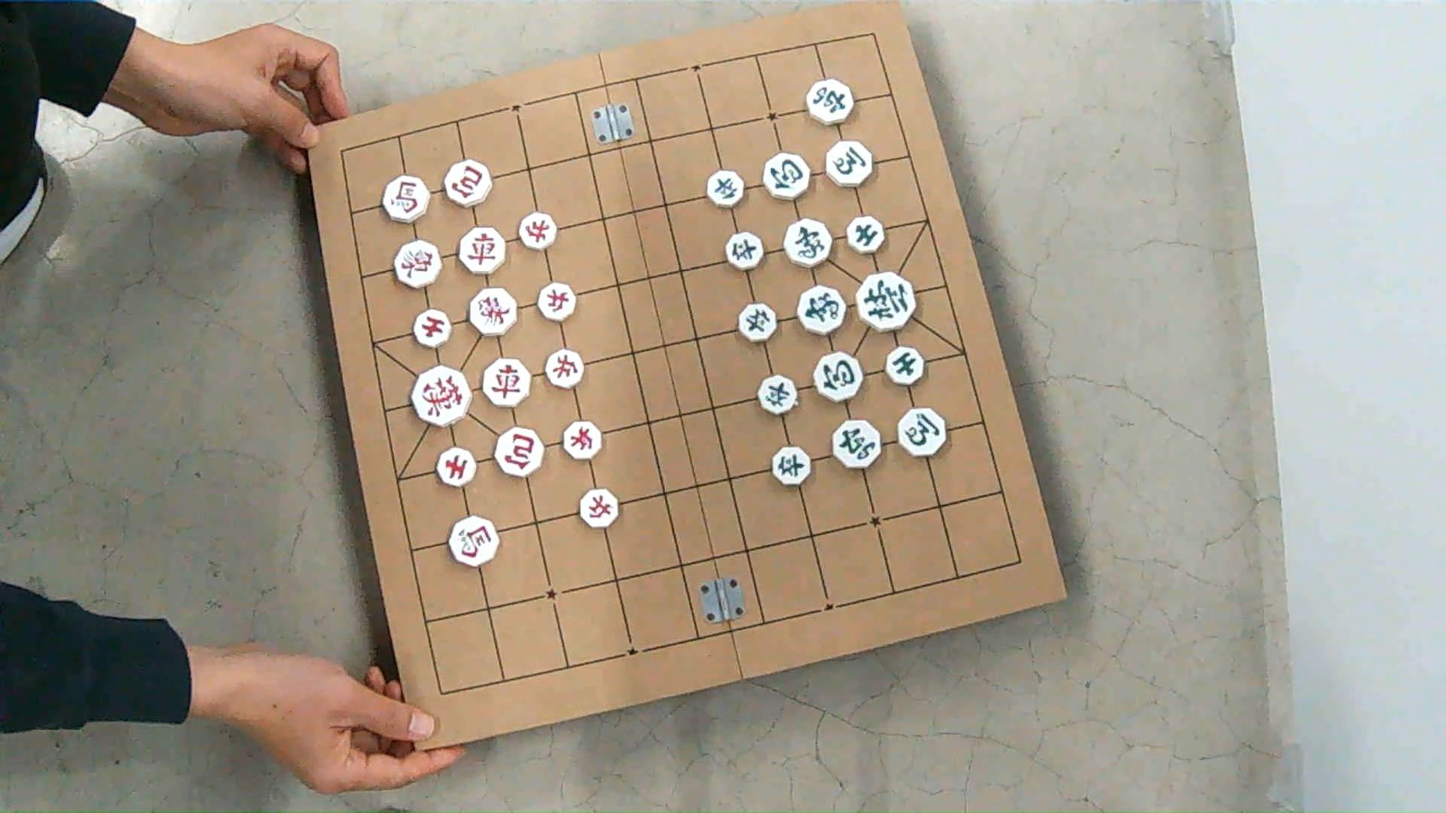cha_green: (833, 419, 881, 469), (807, 79, 853, 124)
cha_red: (483, 358, 530, 406), (459, 227, 505, 274)
jol_green: (758, 376, 797, 415), (772, 446, 810, 486), (738, 303, 776, 342), (725, 232, 763, 269), (706, 170, 743, 207)
jol_red: (579, 489, 618, 528), (545, 349, 584, 388), (563, 421, 601, 460), (538, 282, 575, 321), (519, 212, 557, 249)
ma_green: (898, 408, 946, 456), (826, 141, 872, 187)
ma_red: (450, 517, 499, 566), (383, 175, 429, 222)
po_green: (814, 352, 862, 401), (764, 153, 810, 199)
po_red: (496, 428, 544, 477), (445, 160, 492, 206)
sa_green: (886, 346, 923, 385), (847, 217, 884, 253)
sa_red: (413, 309, 451, 348), (438, 447, 475, 486)
sang_green: (798, 286, 846, 334), (785, 218, 831, 266)
sang_red: (393, 240, 441, 288), (469, 288, 517, 336)
wang_green: (857, 271, 916, 330)
wang_red: (412, 366, 471, 425)
